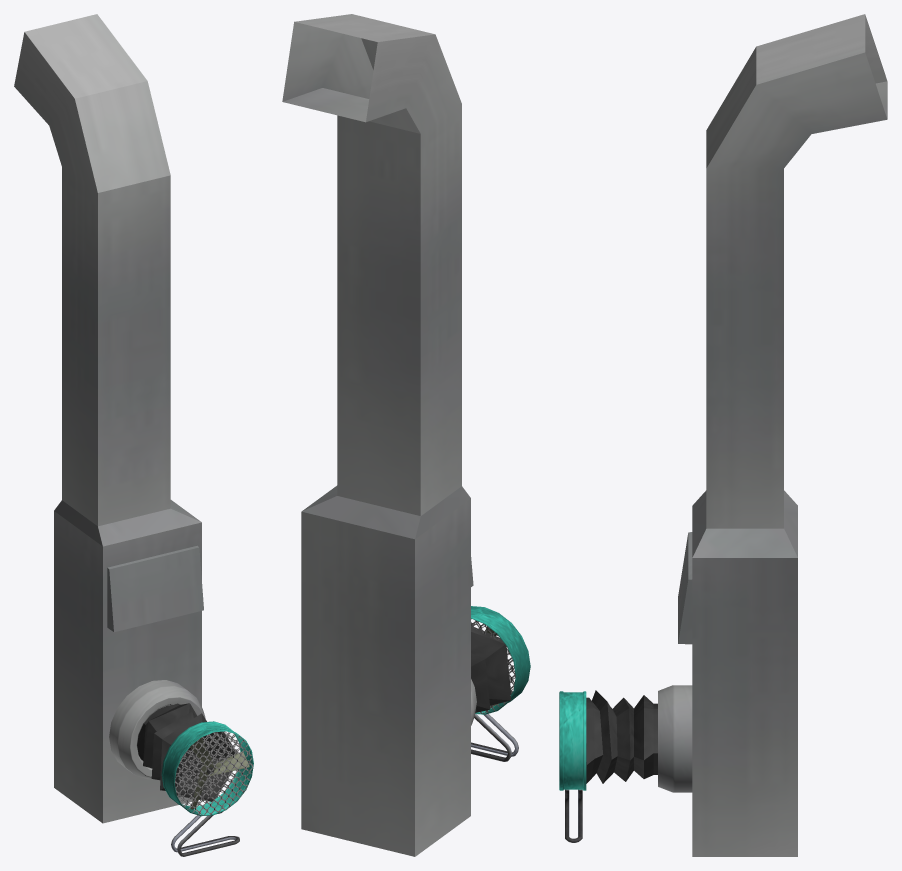
File: fan.fbx
3 views of the same model, side by side, from view 1: azimuth 30°, elevation 25°; view 2: azimuth 150°, elevation 25°; view 3: azimuth 270°, elevation 25° (orthographic). The views are drawn at different scales.
Visible parts, largest first — view 1: fan_install_to_wall, industrialFan; view 2: fan_install_to_wall, industrialFan; view 3: fan_install_to_wall, industrialFan.
Part boxes in pixels (box(x1,y1,x2,y2)): fan_install_to_wall: box(14, 14, 235, 823); industrialFan: box(161, 721, 253, 856); fan_install_to_wall: box(282, 14, 511, 856); industrialFan: box(471, 606, 530, 761); fan_install_to_wall: box(586, 14, 887, 856); industrialFan: box(559, 691, 586, 842).
Size of the model in its own units: 52.79 by 373 by 140.
